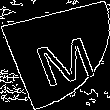M_N: (18, 24, 92, 86)
